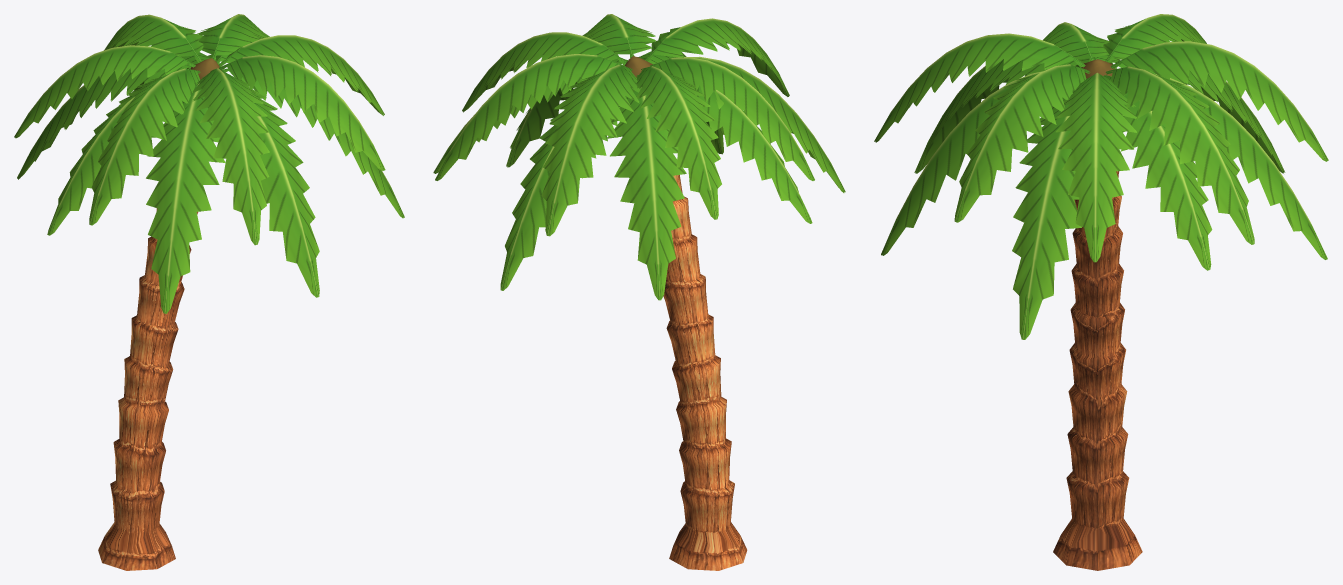
The model's file is Kit_PalmA.fbx.
3 renders of one model, left to right at view 1: azimuth 30°, elevation 25°; view 2: azimuth 150°, elevation 25°; view 3: azimuth 270°, elevation 25°, orthographic. The views are drawn at different scales.
Parts seen in each view (by area): view 1: Kit_PalmA; view 2: Kit_PalmA; view 3: Kit_PalmA.
Boxes of the visible parts, <box> form: Kit_PalmA: <box>14,14,404,570</box>; Kit_PalmA: <box>433,14,845,570</box>; Kit_PalmA: <box>874,14,1328,570</box>.
Size of the model in its own units: 25.89 by 35.35 by 26.66.
1 material, 1 textured.
